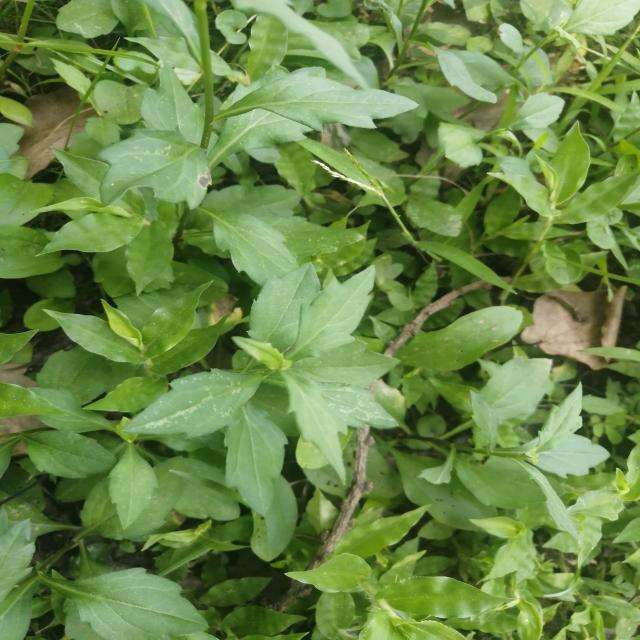Indian aster: (192, 264, 396, 526)
